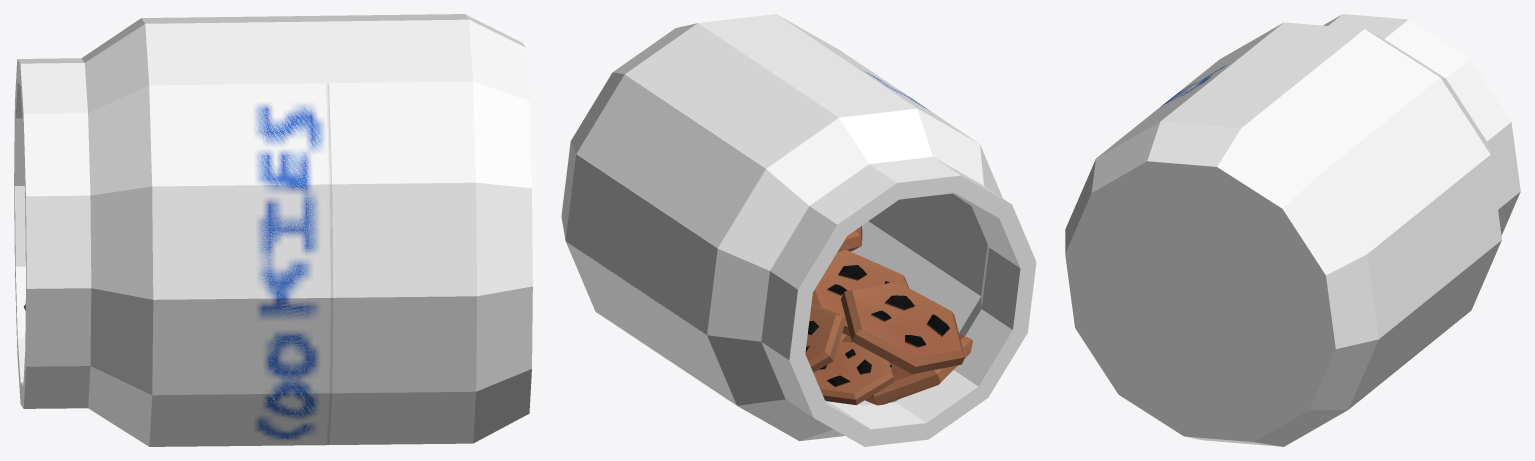
Rendered from COOKIE JAR.fbx.
3 views of the same model, side by side, from view 1: azimuth 30°, elevation 25°; view 2: azimuth 150°, elevation 25°; view 3: azimuth 270°, elevation 25° (orthographic). The views are drawn at different scales.
Visible parts, largest first — view 1: cookiejar; view 2: cookiejar, cookies; view 3: cookiejar.
Part boxes in pixels (<box>): cookiejar: <box>14,14,532,446</box>; cookiejar: <box>561,14,1036,446</box>; cookies: <box>805,226,972,405</box>; cookiejar: <box>1065,14,1520,446</box>.
Size of the model in its own units: 17.34 by 12.26 by 15.71.
